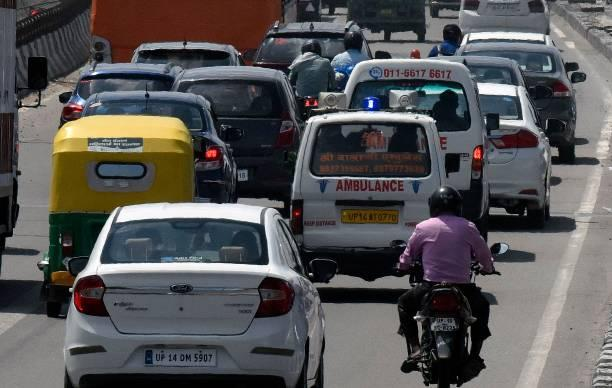AMBULANCE: (298, 93, 434, 232), (324, 170, 409, 208), (401, 47, 429, 65)
